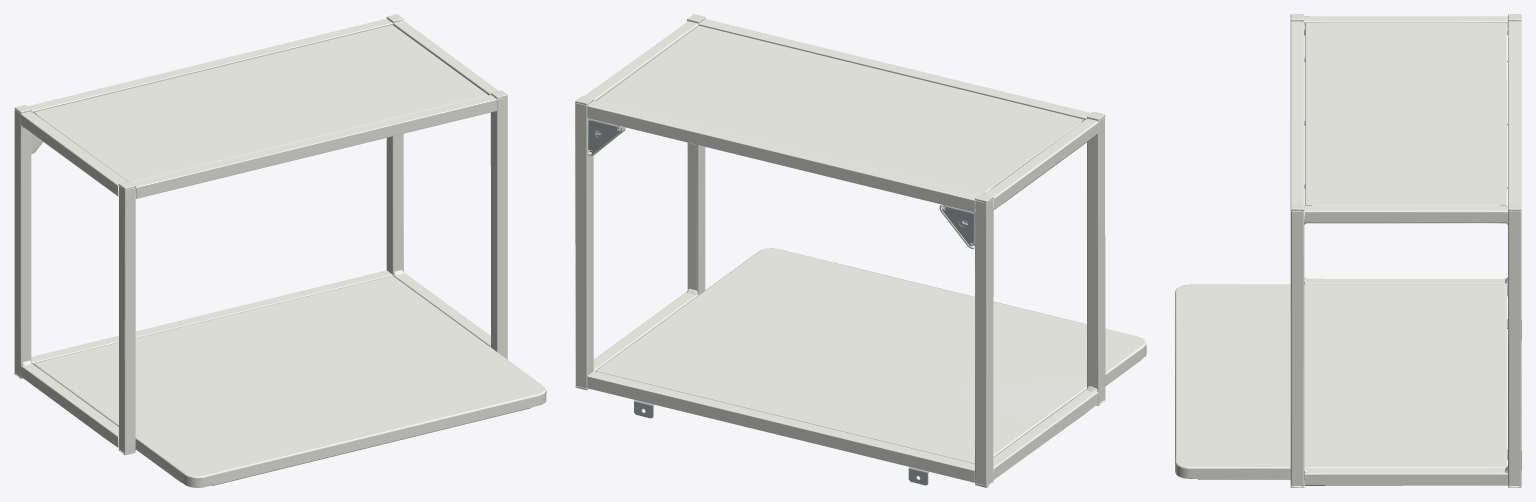
The model's file is enhet_korpus_poki_40622988.glb.
The picture shows the model from 3 angles, left to right: view 1: azimuth 30°, elevation 25°; view 2: azimuth 150°, elevation 25°; view 3: azimuth 270°, elevation 25°; orthographic projection. The views are drawn at different scales.
Visible parts, largest first — view 1: enhet_korpus_poki_40622988; view 2: enhet_korpus_poki_40622988; view 3: enhet_korpus_poki_40622988.
Part boxes in pixels (<box>): enhet_korpus_poki_40622988: <box>14,14,546,487</box>; enhet_korpus_poki_40622988: <box>575,14,1146,487</box>; enhet_korpus_poki_40622988: <box>1175,14,1521,487</box>.
Bounding box in the file's own units: 0.6 × 0.4165 × 0.4502.
1 material, 1 textured.
